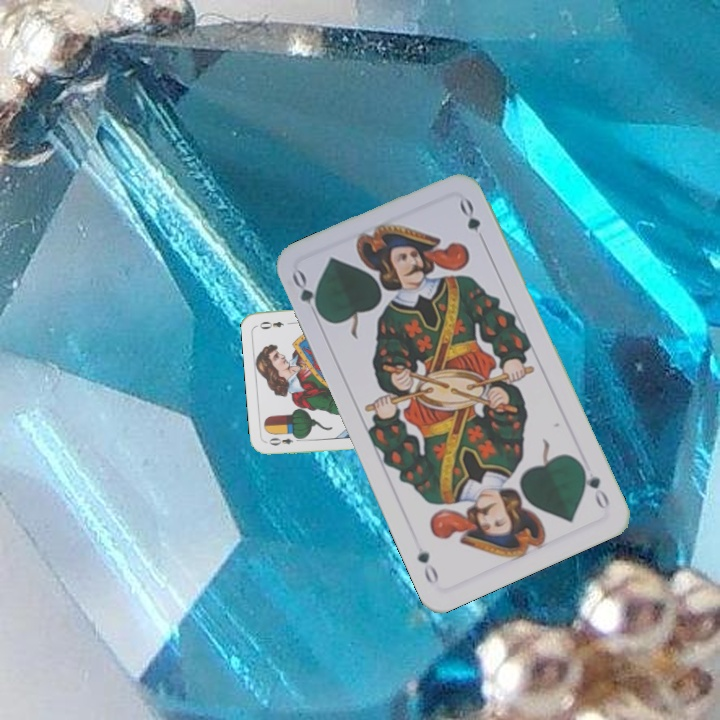EO: (265, 432, 305, 448)
GO: (288, 267, 327, 324), (575, 459, 612, 513)
